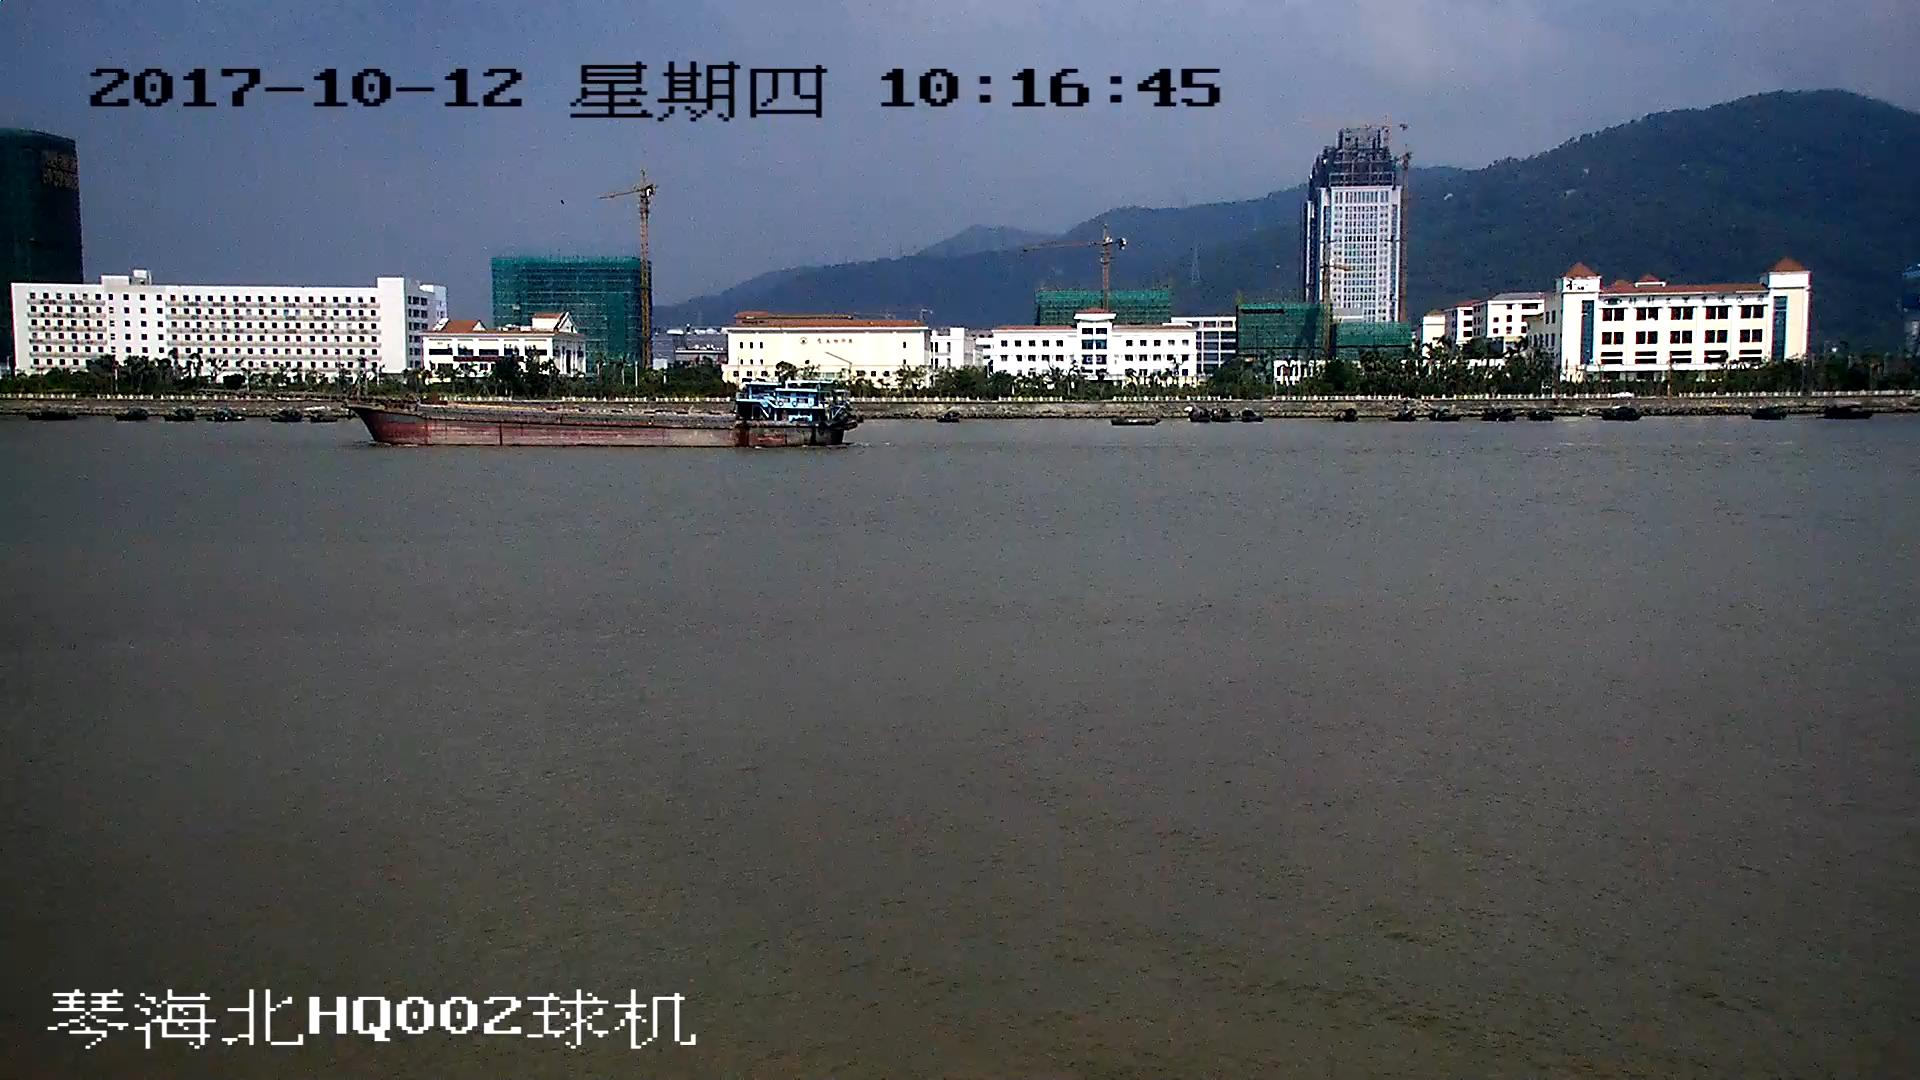bulk cargo carrier: (358, 382, 855, 448)
